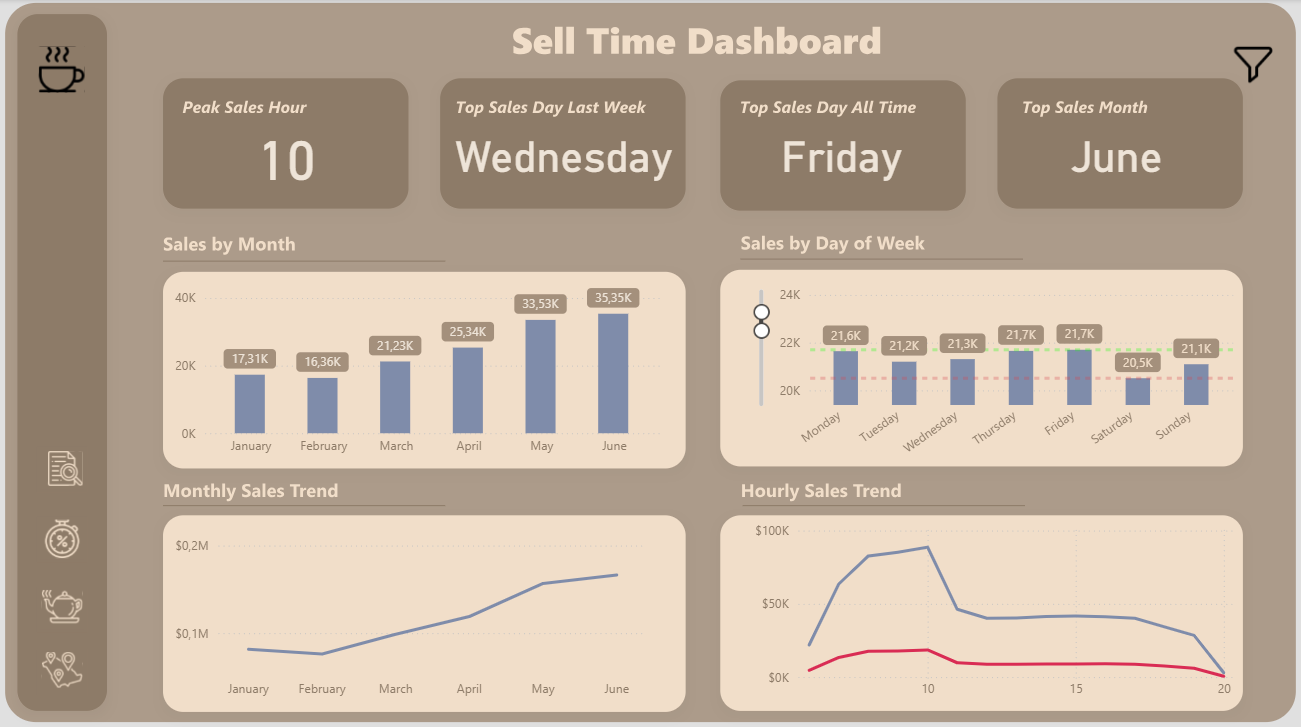

What the dashboard file says about the page in this screenshot:
{"tool":"powerbi","page":{"name":"Sell Time Dashboard","canvas":[1280,720],"ordinal":2},"visuals":[{"type":"group","id":"g1","title":"KPIs","box":[159.5,93.3,1057.7,117.8],"z":0},{"type":"card","title":"Peak Sales Hour","fields":{"Values":["Project.Peak Hour"]},"box":[159.5,93.3,245.4,117.8],"z":0,"group":"g1"},{"type":"lineChart","title":"Hourly Sales Trend","fields":{"Y":["Sum(Project.Total_Bill)","CountNonNull(Project.ID)"],"Category":["Project.Hour"]},"box":[717.9,507.8,499.5,187.8],"z":0,"group":"g4"},{"type":"actionButton","title":"Button L DB","box":[36.9,637.7,50,45.4],"z":0,"group":"g3"},{"type":"group","id":"g2","title":"General Filters","box":[0,0,1280,720],"z":1000},{"type":"card","title":"Top Sales Day Last Week","fields":{"Values":["Project.Top Day of Week"]},"box":[433.1,93.3,242.9,115.3],"z":1000,"group":"g1"},{"type":"columnChart","title":"Sales by Month","fields":{"Category":["Project.Month Name"],"Y":["CountNonNull(Project.ID)"]},"box":[168.1,272.4,485.9,184.1],"z":1000,"group":"g4"},{"type":"actionButton","title":"Button P DB","box":[36.9,576.9,50,45.4],"z":1000,"group":"g3"},{"type":"card","title":"Top Sales Day All Time","fields":{"Values":["Project.Top Day of Week"]},"box":[706.7,93.3,241.7,115.3],"z":2000,"group":"g1"},{"type":"clusteredColumnChart","title":"Sales by Day of Week","fields":{"Y":["CountNonNull(Project.ID)"],"Category":["TabelaDniTygodnia.Day Name"]},"box":[717.9,272.7,499.5,196.2],"z":2000,"group":"g4"},{"type":"group","id":"g3","title":"Ribbon Buttons","box":[36.9,439.2,50,243.8],"z":2000},{"type":"actionButton","title":"Button ST DB","box":[36.9,507.7,50,45.4],"z":2000,"group":"g3"},{"type":"actionButton","title":"Button Filters","box":[1205,35,52.5,56.2],"z":3000,"group":"g2"},{"type":"card","title":"Top Sales Month","fields":{"Values":["Project.Top Month"]},"box":[977.9,93.3,239.3,115.3],"z":3000,"group":"g1"},{"type":"group","id":"g4","title":"Visualizations","box":[168.1,272.4,1049.3,423.3],"z":3000},{"type":"actionButton","title":"Button OV DB","box":[36.9,439.2,50,45.4],"z":3000,"group":"g3"},{"type":"lineChart","title":"Monthly Sales Trend","fields":{"Category":["Project.Month Name"],"Y":["Sum(Project.Total_Bill)"]},"box":[168.1,522.7,472.4,173],"z":3000,"group":"g4"}]}

Visuals, with their boxes in screenshot pixels (x1, y1, x2, y2), scaled from the page's 1280x720 canvas onto the 1301x727 screenshot:
"KPIs" group: 162:94:1237:213
"Peak Sales Hour" card: 162:94:412:213
"Hourly Sales Trend" lineChart: 730:513:1237:702
"Button L DB" actionButton: 38:644:88:690
"General Filters" group: 0:0:1300:726
"Top Sales Day Last Week" card: 440:94:687:211
"Sales by Month" columnChart: 171:275:665:461
"Button P DB" actionButton: 38:583:88:628
"Top Sales Day All Time" card: 718:94:964:211
"Sales by Day of Week" clusteredColumnChart: 730:275:1237:473
"Ribbon Buttons" group: 38:443:88:690
"Button ST DB" actionButton: 38:513:88:558
"Button Filters" actionButton: 1225:35:1278:92
"Top Sales Month" card: 994:94:1237:211
"Visualizations" group: 171:275:1237:702
"Button OV DB" actionButton: 38:443:88:489
"Monthly Sales Trend" lineChart: 171:528:651:702
